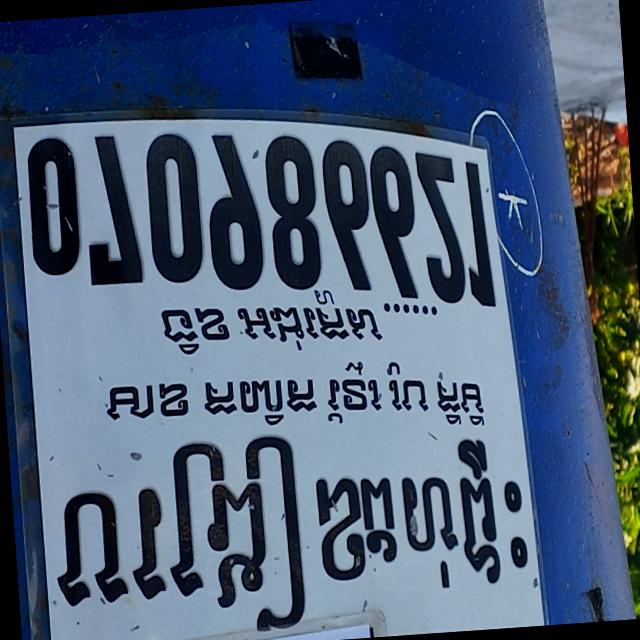1: (154, 287, 383, 364)
377: (23, 121, 500, 318)
4: (103, 361, 486, 435)
Yolov11_80vkh: (53, 436, 534, 640)
